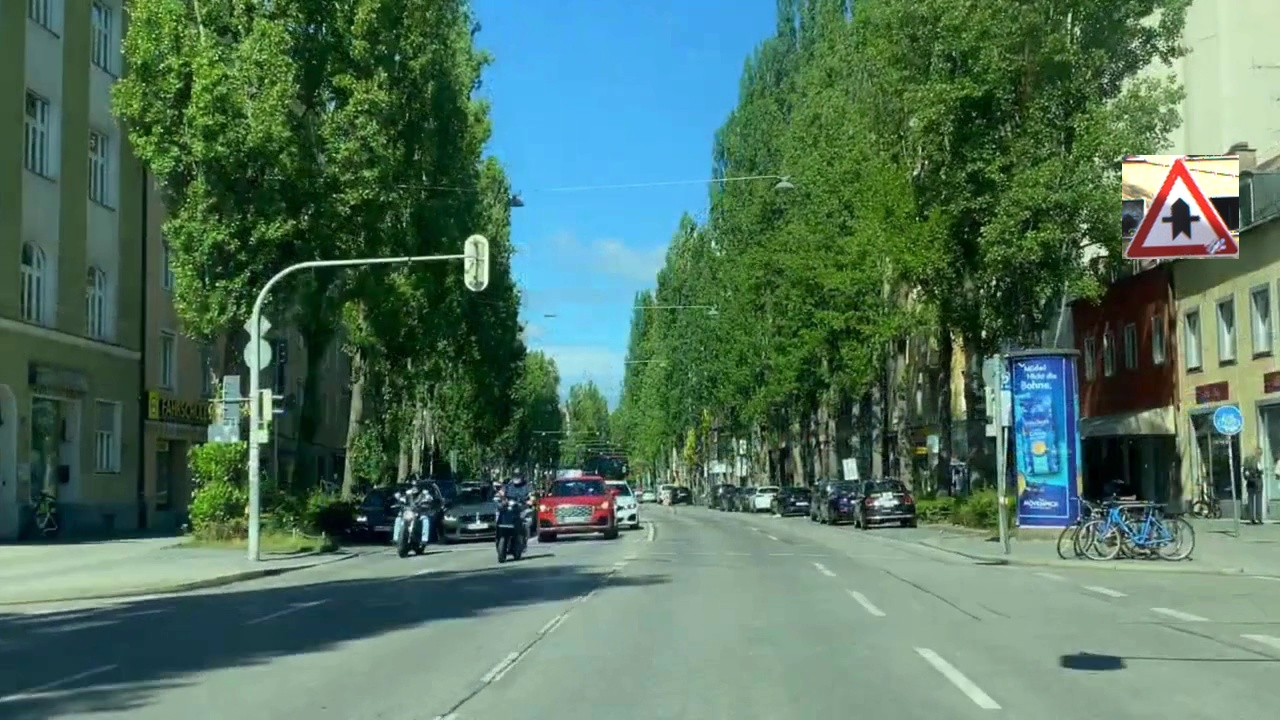Right-of-way: (1122, 155, 1239, 259)
